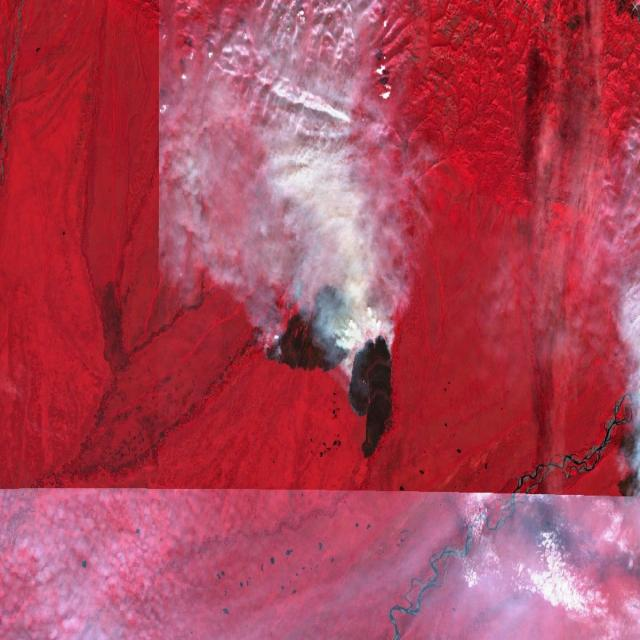fire: (260, 273, 394, 420)
